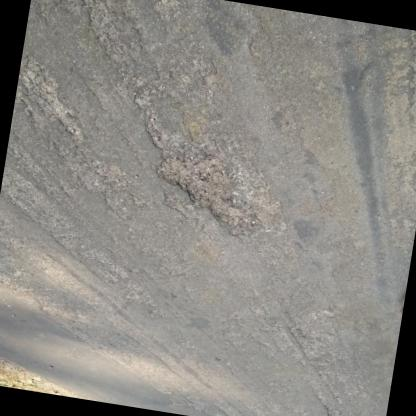pothole: (146, 145, 256, 230)
